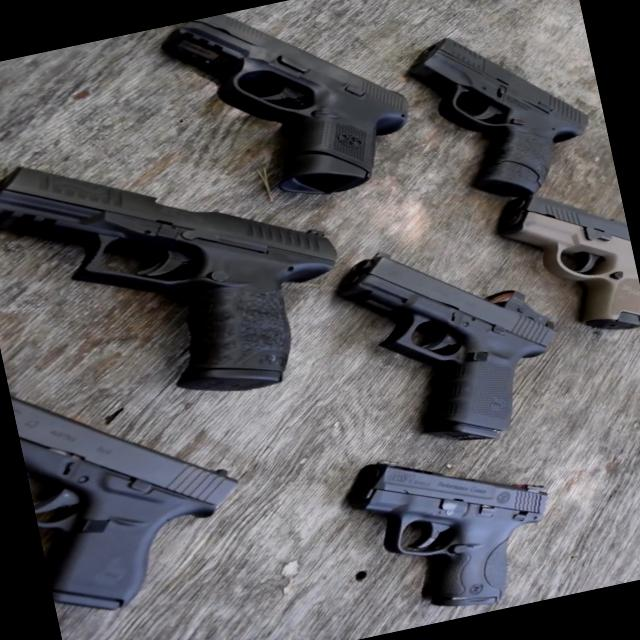handgun: (0, 72, 355, 439), (307, 194, 590, 506), (109, 0, 444, 249), (10, 350, 284, 625), (334, 406, 586, 634), (372, 2, 618, 225), (493, 167, 639, 382)
